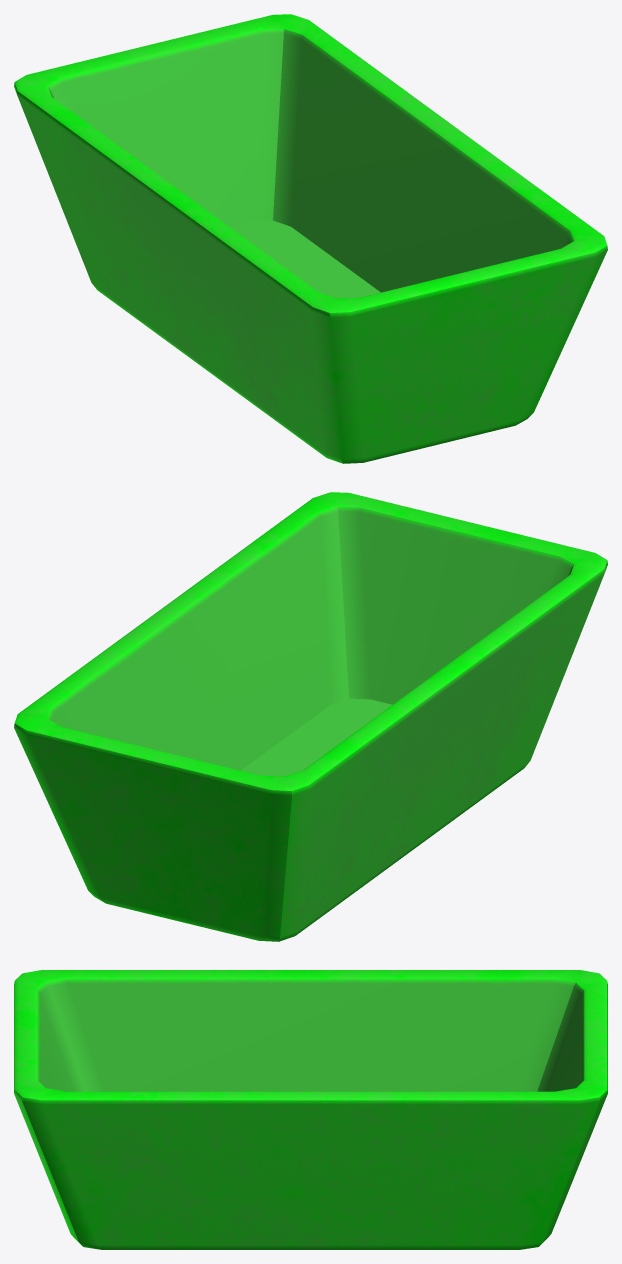
Rendered from SM_Train_WagonTransport.fbx.
3 renders of one model, top to bottom at view 1: azimuth 30°, elevation 25°; view 2: azimuth 150°, elevation 25°; view 3: azimuth 270°, elevation 25°, orthographic. The views are drawn at different scales.
Parts seen in each view (by area): view 1: SM_Train_WagonTransport; view 2: SM_Train_WagonTransport; view 3: SM_Train_WagonTransport.
Part boxes in pixels (box(x1,y1,x2,y2)): SM_Train_WagonTransport: box(14, 14, 607, 463); SM_Train_WagonTransport: box(14, 492, 607, 941); SM_Train_WagonTransport: box(14, 970, 607, 1249).
Bounding box in the file's own units: 14.79 × 28.42 × 9.23.
1 material, 1 textured.
